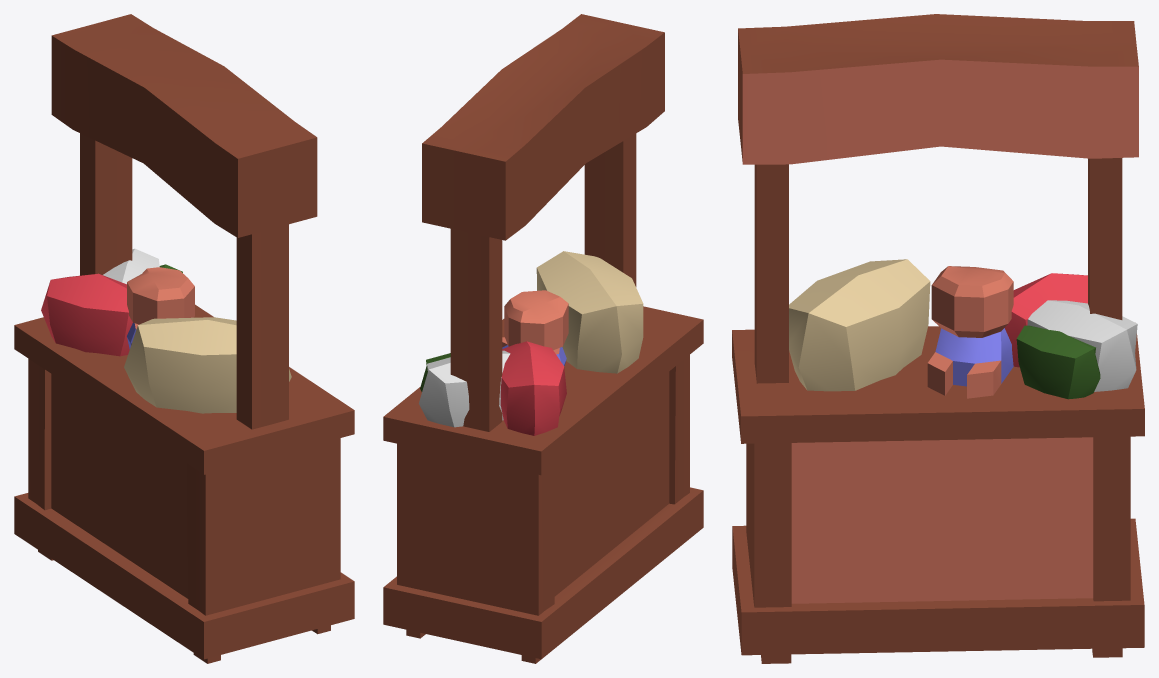
File: VR.fbx_stand_2.fbx
3 renders of one model, left to right at view 1: azimuth 30°, elevation 25°; view 2: azimuth 150°, elevation 25°; view 3: azimuth 270°, elevation 25°, orthographic. The views are drawn at different scales.
Visible parts, largest first — view 1: stand 2; view 2: stand 2; view 3: stand 2.
Boxes of the visible parts, x1=… form: stand 2: x1=14, y1=14, x2=354, y2=663; stand 2: x1=383, y1=14, x2=703, y2=663; stand 2: x1=732, y1=14, x2=1144, y2=663.
Size of the model in its own units: 33.53 by 97.91 by 62.26.
